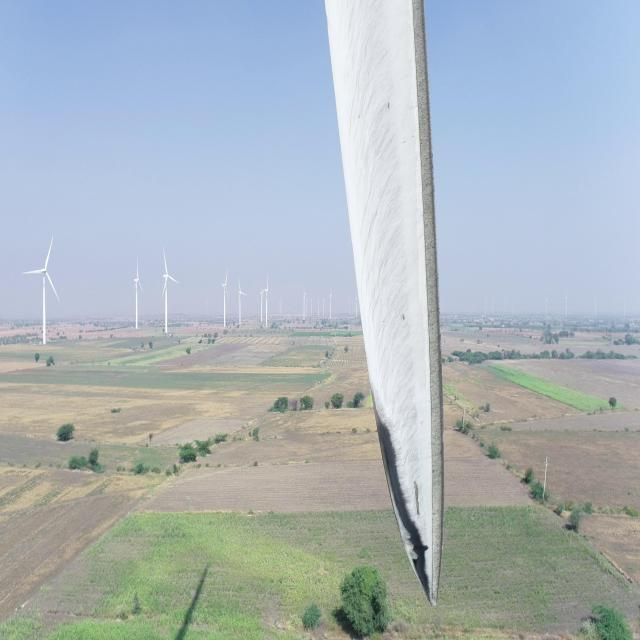Dirt: (325, 0, 445, 599)
Oil LEAKAGE: (375, 417, 433, 604)
Pin Hole: (418, 540, 432, 558), (397, 306, 410, 325), (383, 98, 395, 116)
